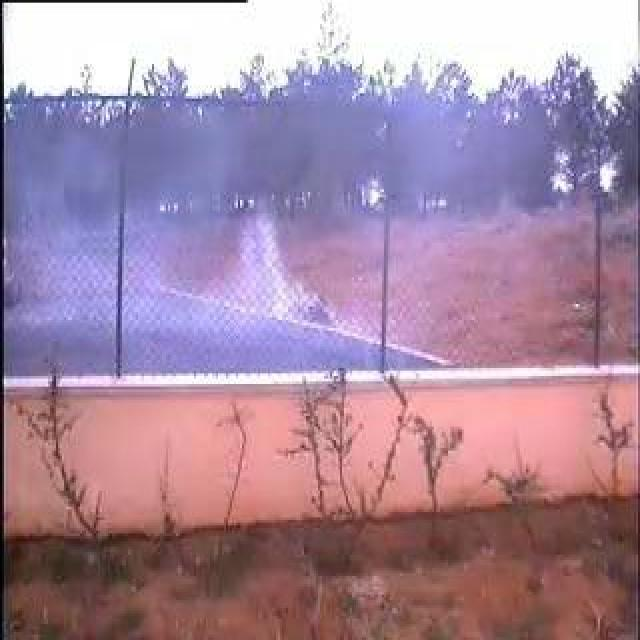Smoke: (120, 103, 392, 374)
